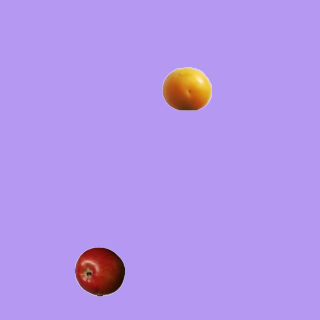Apple Braeburn: (74, 246, 124, 296)
Cherry Wax Yellow: (161, 63, 211, 113)
